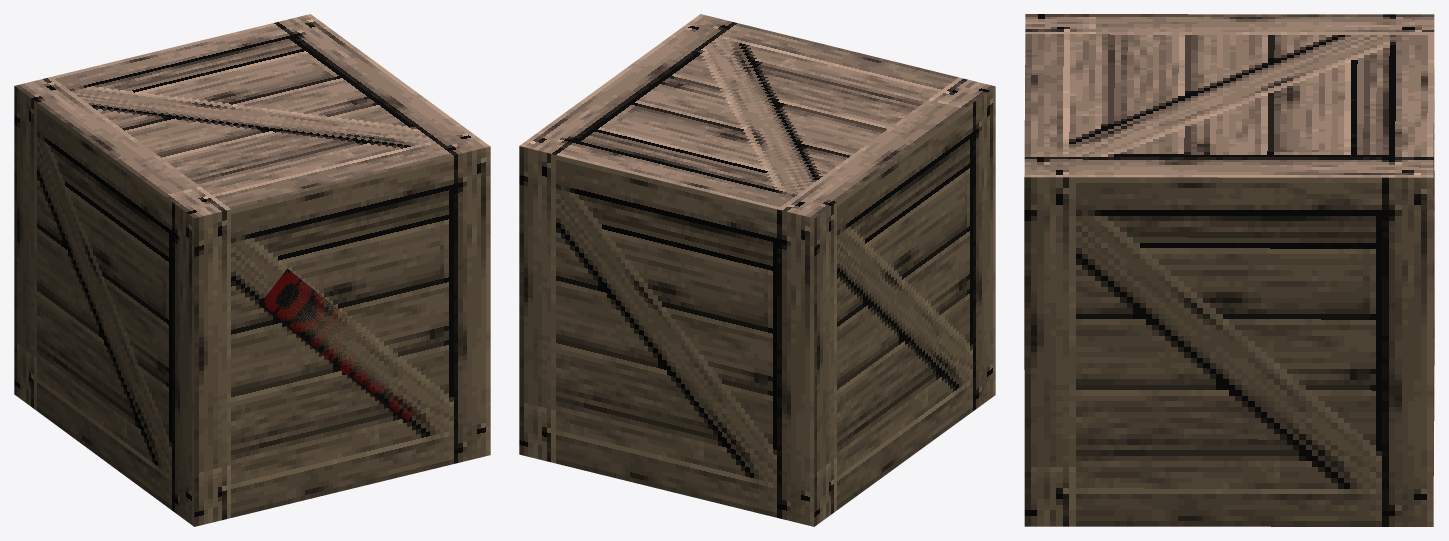
Rendered from primary_088.glb.
3 renders of one model, left to right at view 1: azimuth 30°, elevation 25°; view 2: azimuth 150°, elevation 25°; view 3: azimuth 270°, elevation 25°, orthographic. The views are drawn at different scales.
Parts seen in each view (by area): view 1: Object; view 2: Object; view 3: Object.
Part boxes in pixels (box(x1,y1,x2,y2)): Object: box(14, 14, 490, 526); Object: box(519, 14, 995, 526); Object: box(1024, 14, 1434, 526).
Size of the model in its own units: 1.29 by 1.28 by 1.36.
Materials: 7 (7 with a texture image).
